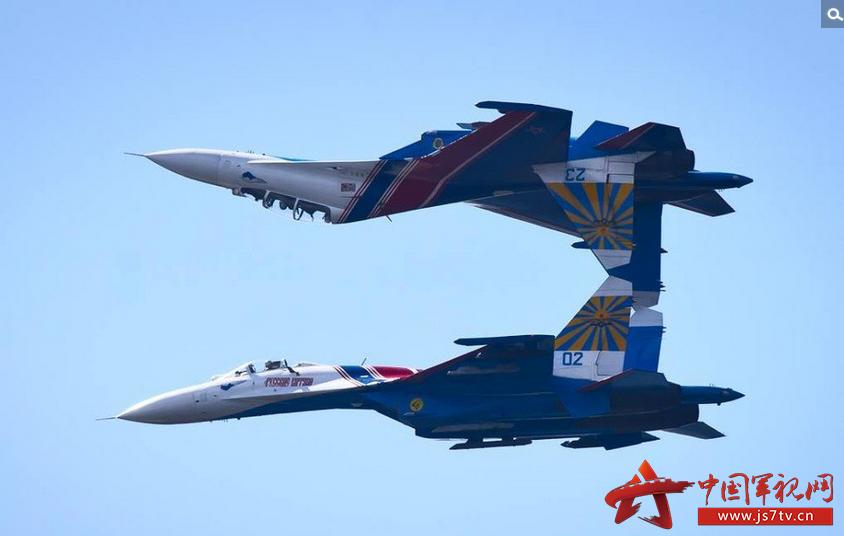airplane: (111, 83, 756, 300), (80, 278, 751, 459)
